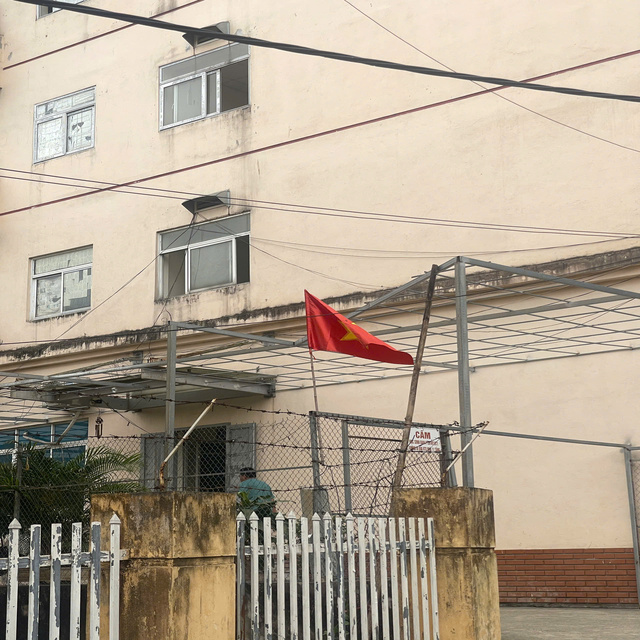laco: (290, 281, 425, 384)
